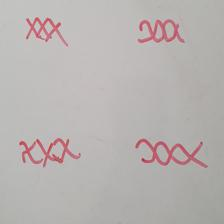dsNA: (134, 138, 208, 167), (17, 138, 81, 166), (24, 17, 69, 46), (137, 18, 185, 43)
